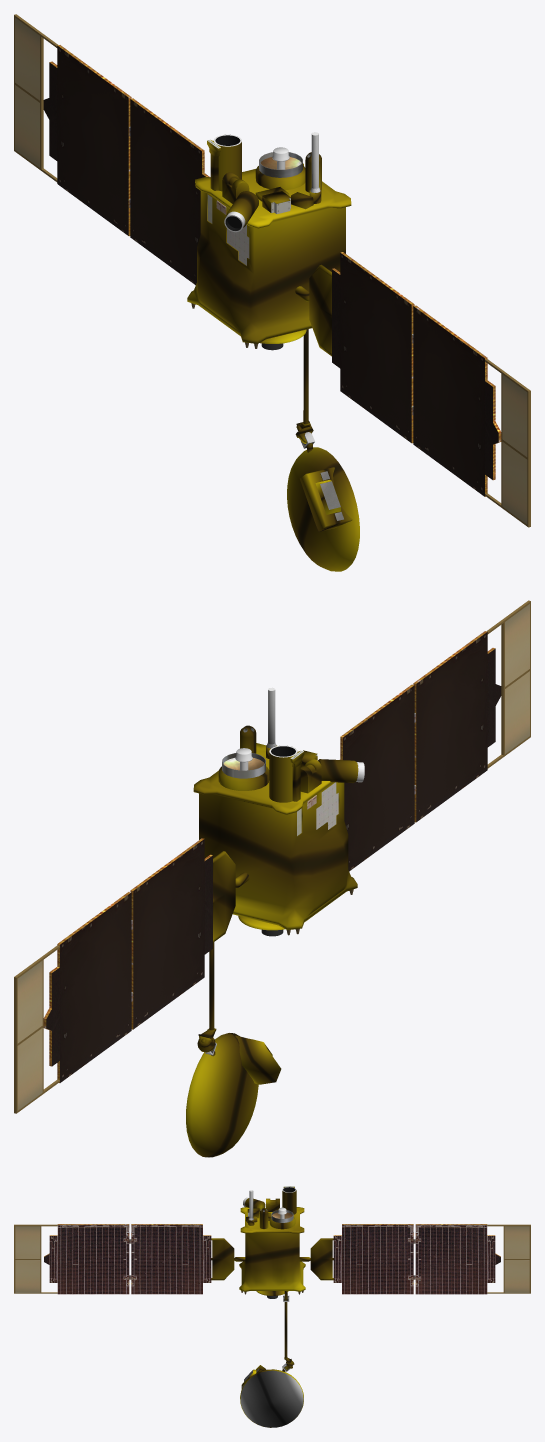
Rendered from Mars_Global_Surveyor.glb.
The picture shows the model from 3 angles, top to bottom: view 1: azimuth 30°, elevation 25°; view 2: azimuth 150°, elevation 25°; view 3: azimuth 270°, elevation 25°; orthographic projection. The views are drawn at different scales.
Visible parts, largest first — view 1: tex, foil_gold, AO; view 2: tex, foil_gold, AO; view 3: shiny_panel, foil_gold, tex, foil_silver.
Part boxes in pixels (x1,y1,x2,y2): tex: [14, 14, 530, 527]; foil_gold: [187, 140, 359, 571]; AO: [213, 132, 320, 448]; tex: [14, 600, 530, 1113]; foil_gold: [186, 725, 358, 1157]; AO: [205, 688, 364, 1055]; shiny_panel: [44, 1224, 500, 1294]; foil_gold: [211, 1187, 333, 1427]; tex: [14, 1186, 530, 1387]; foil_silver: [240, 1370, 303, 1427].
Size of the model in its own units: 1.75 by 5.15 by 10.52.
8 materials, 7 textured.
